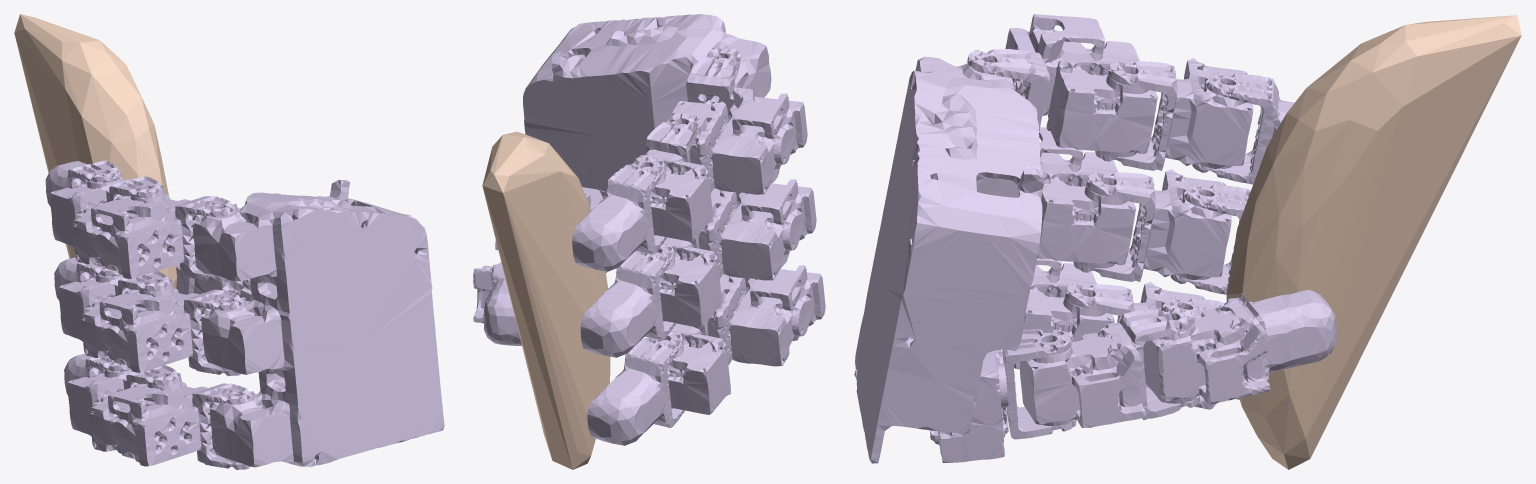
3 renders of one model, left to right at view 1: azimuth 30°, elevation 25°; view 2: azimuth 150°, elevation 25°; view 3: azimuth 270°, elevation 25°, orthographic. The views are drawn at different scales.
Parts seen in each view (by area): view 1: LEAP_hand, world; view 2: LEAP_hand, world; view 3: LEAP_hand, world.
Boxes of the visible parts, x1,y1,x2,y2 form: LEAP_hand: (45,160,444,469); world: (14,14,176,288); LEAP_hand: (473,14,825,445); world: (482,131,610,469); LEAP_hand: (854,14,1336,463); world: (1226,15,1521,469).
Bounding box in the file's own units: 0.1443 × 0.1777 × 0.2436.
